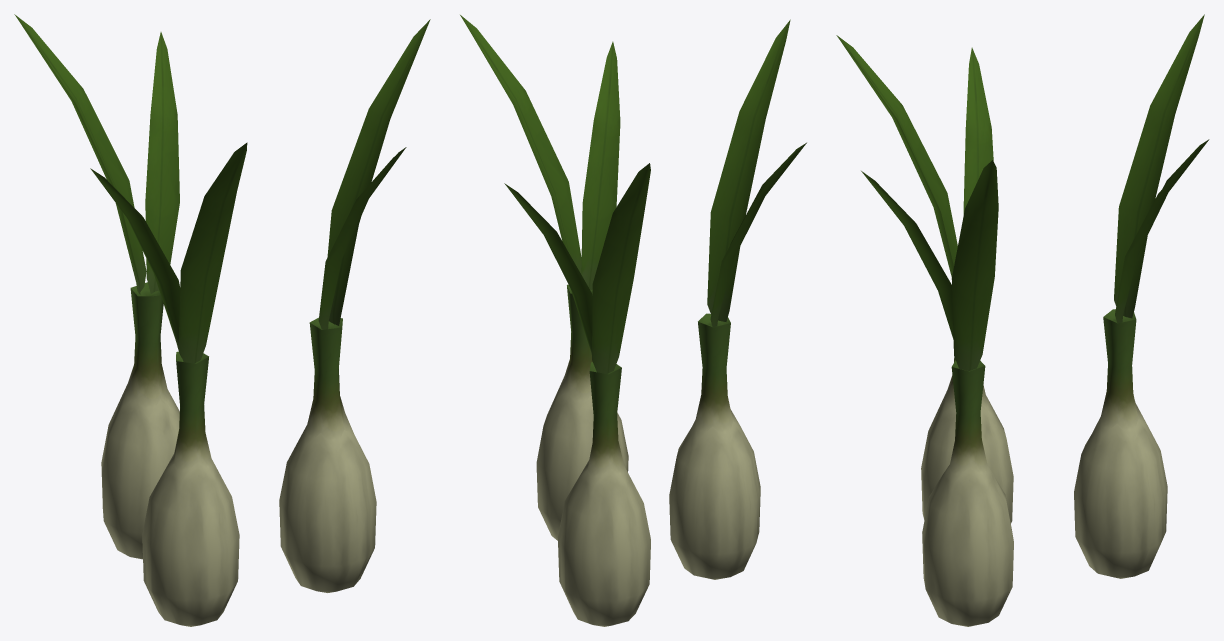
File: Crop_Onions_Stage_02.fbx
3 views of the same model, side by side, from view 1: azimuth 30°, elevation 25°; view 2: azimuth 150°, elevation 25°; view 3: azimuth 270°, elevation 25° (orthographic). The views are drawn at different scales.
Visible parts, largest first — view 1: Onions_Stage_02; view 2: Onions_Stage_02; view 3: Onions_Stage_02.
Part boxes in pixels (<box>): Onions_Stage_02: <box>14,14,430,626</box>; Onions_Stage_02: <box>460,15,806,626</box>; Onions_Stage_02: <box>836,14,1209,626</box>.
Bounding box in the file's own units: 36.02 × 52.57 × 34.14.
